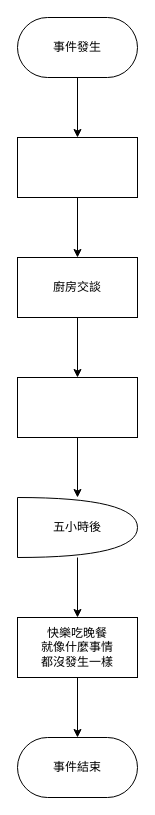
Image size: 155x815. Some labels were removed from this diagram. Each missing label, with the centre of its shape:
"中餐冷戰" belongs at point (77, 167).
"兩人一起出門" belongs at point (77, 407).
